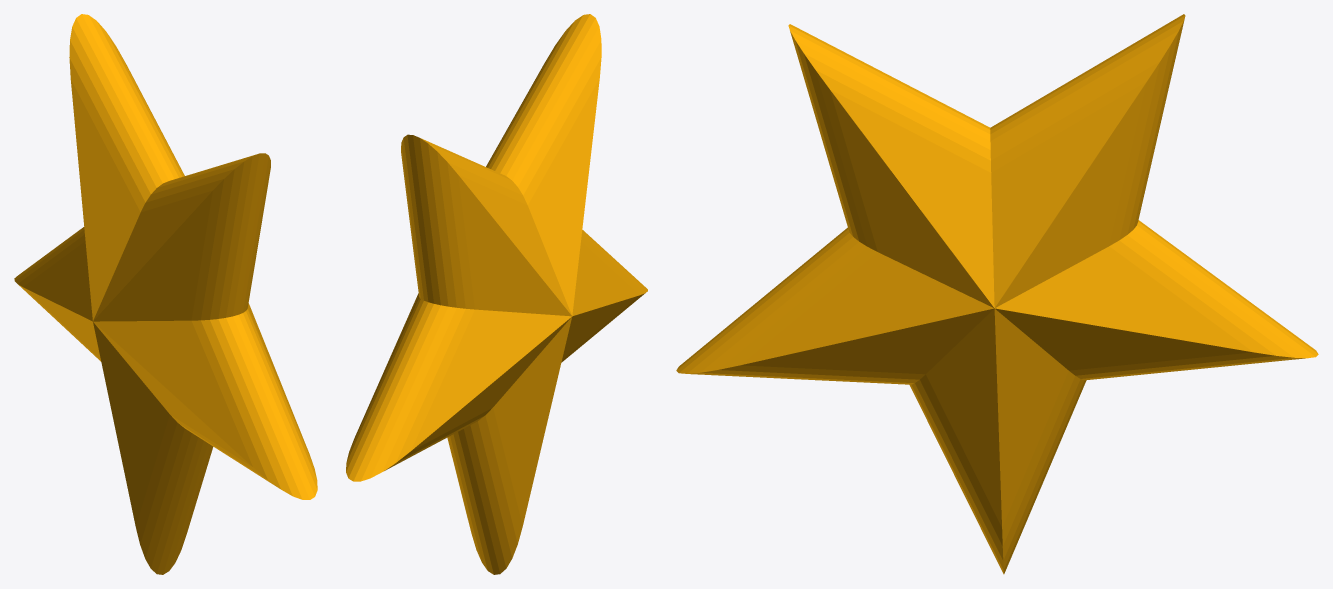
File: yellow star animation.fbx
3 renders of one model, left to right at view 1: azimuth 30°, elevation 25°; view 2: azimuth 150°, elevation 25°; view 3: azimuth 270°, elevation 25°, orthographic. The views are drawn at different scales.
Parts seen in each view (by area): view 1: Circle; view 2: Circle; view 3: Circle.
Boxes of the visible parts, x1=… form: Circle: x1=14, y1=14, x2=317, y2=574; Circle: x1=346, y1=14, x2=647, y2=574; Circle: x1=676, y1=14, x2=1318, y2=574.
Size of the model in its own units: 148 by 142 by 44.09.
